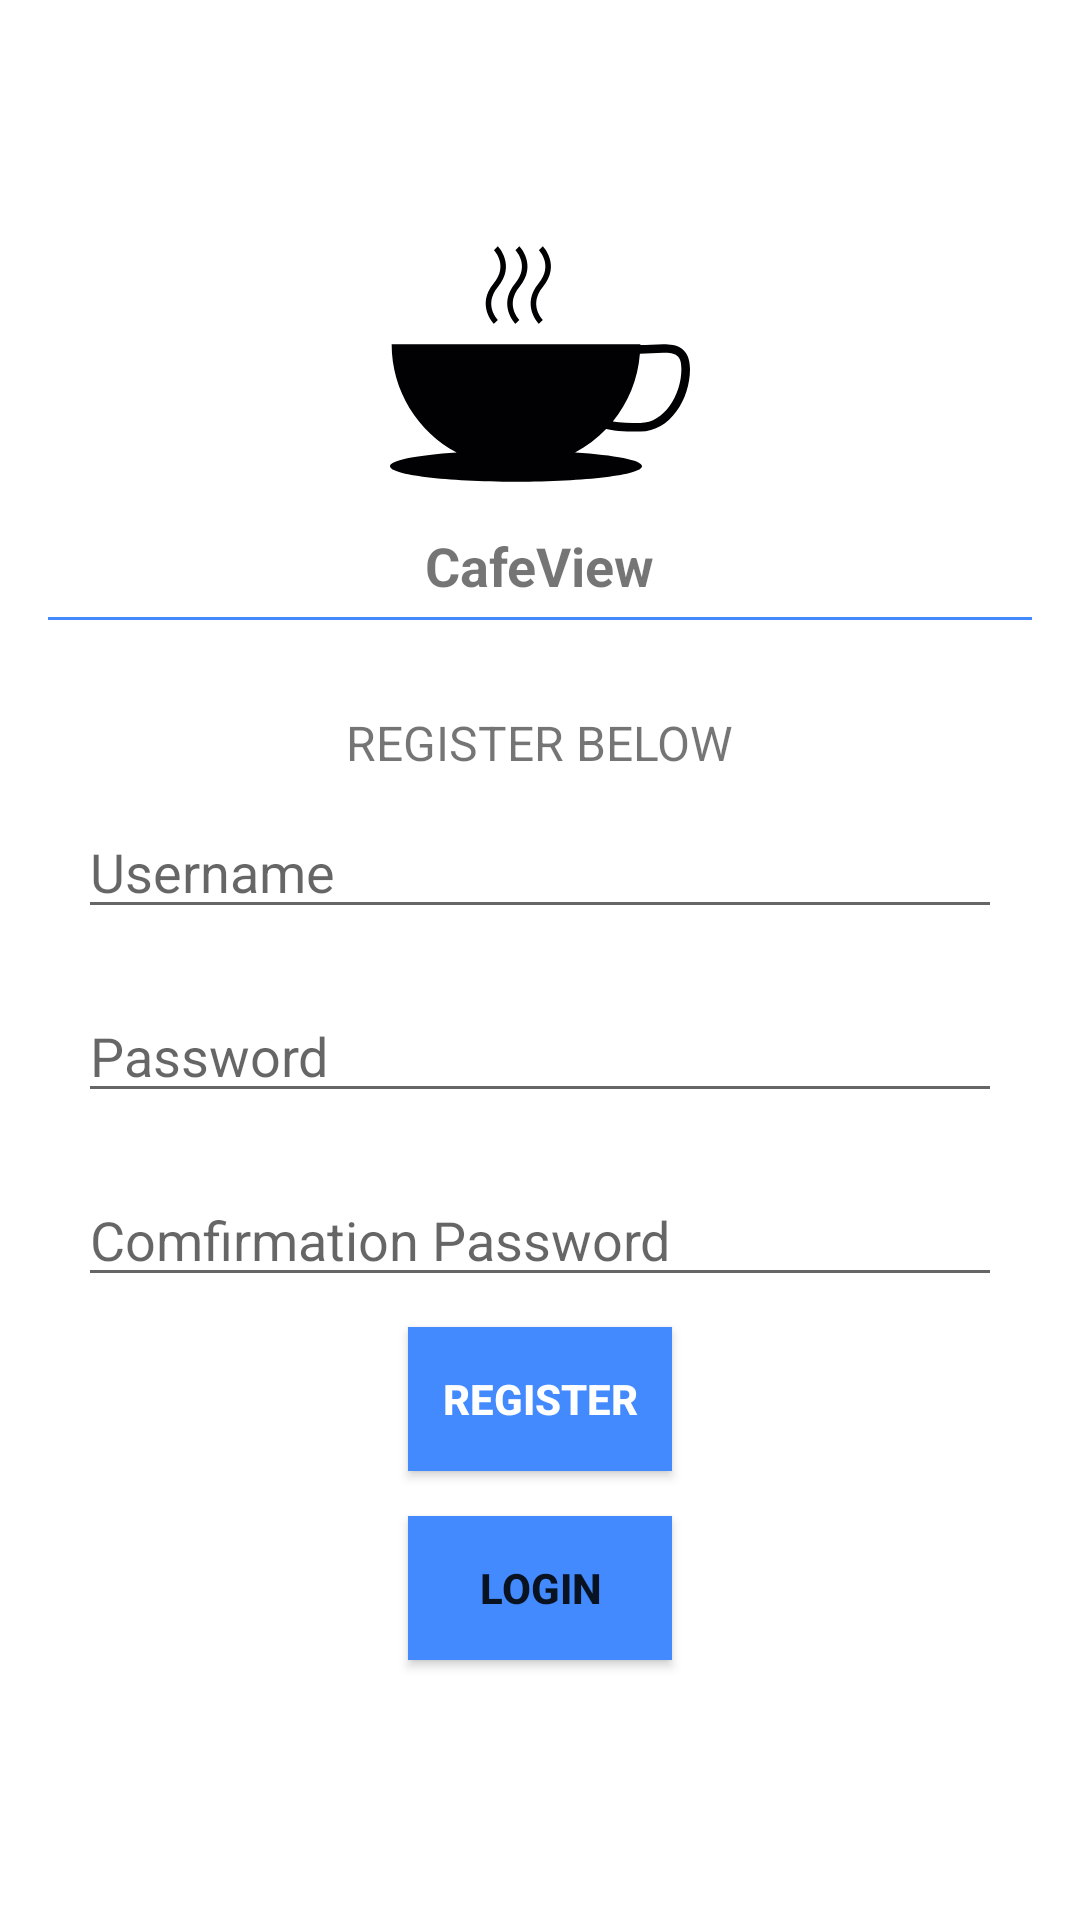

Point at icon controls on the screen. Image size 1080 × 1920, points as point (x, y).
coffee: point (540, 364)
